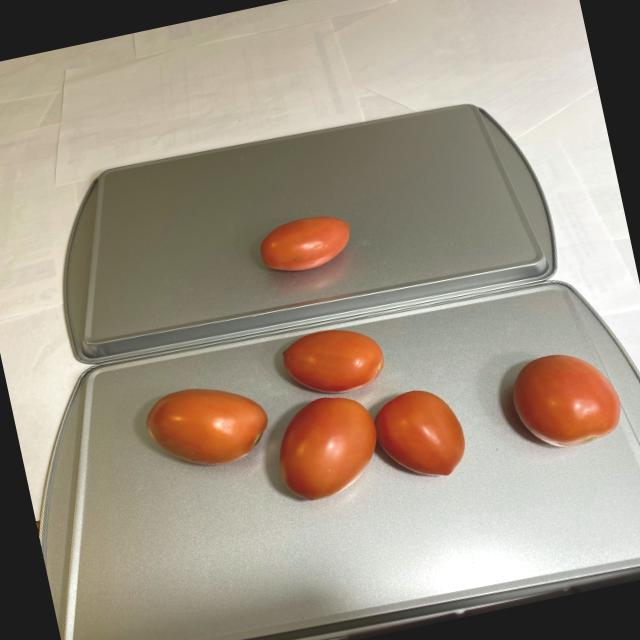tomato: (123, 272, 632, 533), (254, 206, 363, 280)
